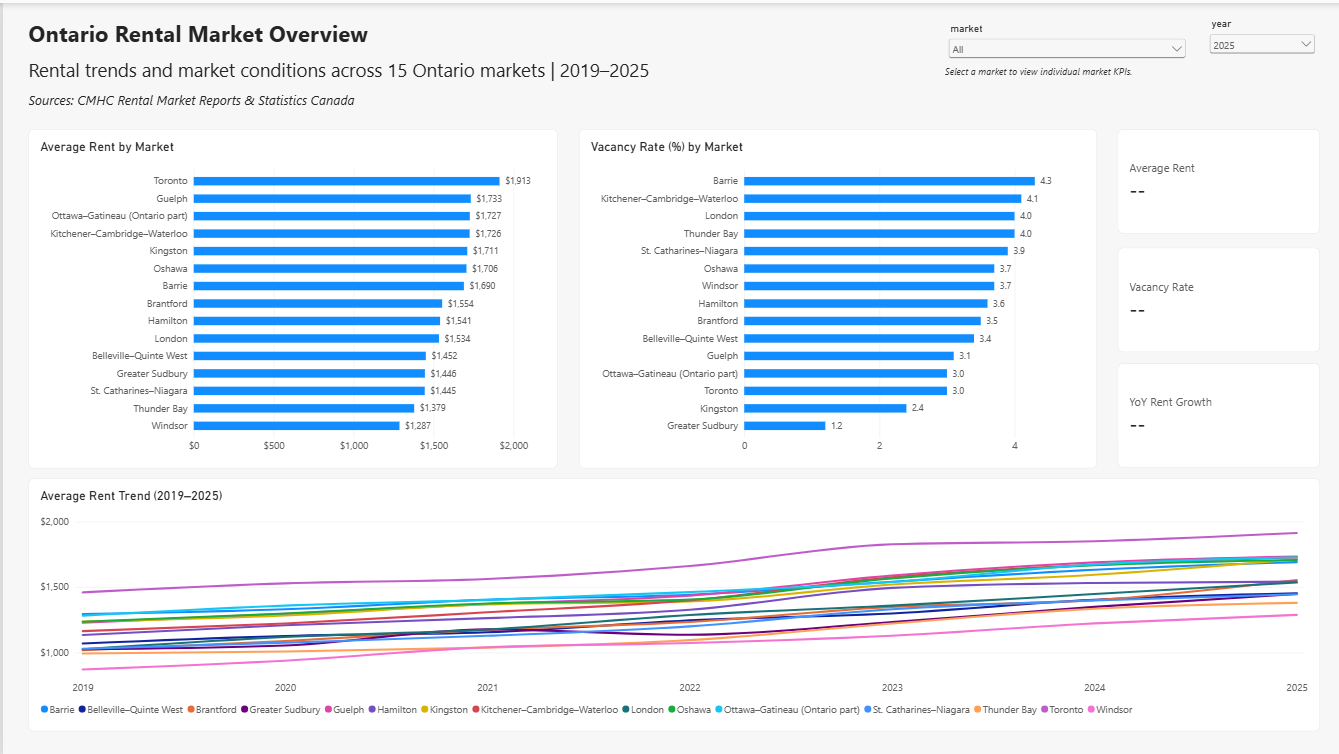

The dashboard page shown, as its layout file describes it:
{"tool":"powerbi","page":{"name":"Ontario Market Overview","canvas":[1920,1080],"ordinal":0},"visuals":[{"type":"textbox","box":[36.3,20.4,656.4,56.8],"z":0},{"type":"textbox","box":[36.3,77.2,960.8,50],"z":1},{"type":"textbox","box":[36.3,127.2,499.7,29.5],"z":2},{"type":"slicer","fields":{"Values":["Dim Year.observation_year"]},"box":[1723.9,20.4,161.3,72.7],"z":3},{"type":"slicer","fields":{"Values":["Dim Market.market"]},"box":[1349.2,27.3,349.8,59.1],"z":4},{"type":"clusteredBarChart","title":"Average Rent by Market","fields":{"Category":["analytics vw_market_comparison.market"],"Y":["Avg(analytics vw_market_comparison.average_rent)"]},"box":[36,180,758,486],"z":5},{"type":"clusteredBarChart","title":"Vacancy Rate (%) by Market","fields":{"Category":["analytics vw_market_comparison.market"],"Y":["Avg(analytics vw_market_comparison.vacancy_rate)"]},"box":[824,180,742,486],"z":6},{"type":"lineChart","title":"Average Rent Trend (2019–2025)","fields":{"Category":["analytics vw_market_comparison.observation_year"],"Series":["analytics vw_market_comparison.market"],"Y":["Avg(analytics vw_market_comparison.average_rent)"]},"box":[36,682,1850,362],"z":7},{"type":"cardVisual","fields":{"Data":["analytics vw_market_comparison.Selected Average Rent"]},"box":[1596,180,290,150],"z":8},{"type":"cardVisual","fields":{"Data":["analytics vw_market_comparison.Selected Vacancy Rate"]},"box":[1596,350,290,150],"z":9},{"type":"cardVisual","fields":{"Data":["analytics vw_market_comparison.Selected YoY Rent Growth"]},"box":[1596,516,290,150],"z":10},{"type":"textbox","box":[1350,88,352,28],"z":11}]}

Visuals, with their boxes in screenshot pixels (x1, y1, x2, y2), scaled from the page's 1920x1080 canvas onto the 1339x754 screenshot:
textbox: 25,14,483,54
textbox: 25,54,695,89
textbox: 25,89,374,109
slicer - Dim Year.observation_year: 1202,14,1315,65
slicer - Dim Market.market: 941,19,1185,60
"Average Rent by Market" clusteredBarChart: 25,126,554,465
"Vacancy Rate (%) by Market" clusteredBarChart: 575,126,1092,465
"Average Rent Trend (2019–2025)" lineChart: 25,476,1315,729
cardVisual - analytics vw_market_comparison.Selected Average Rent: 1113,126,1315,230
cardVisual - analytics vw_market_comparison.Selected Vacancy Rate: 1113,244,1315,349
cardVisual - analytics vw_market_comparison.Selected YoY Rent Growth: 1113,360,1315,465
textbox: 941,61,1187,81
